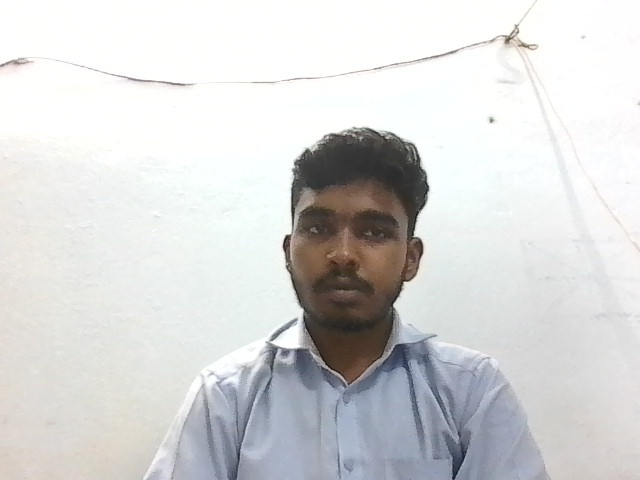real: (284, 137, 426, 339)
